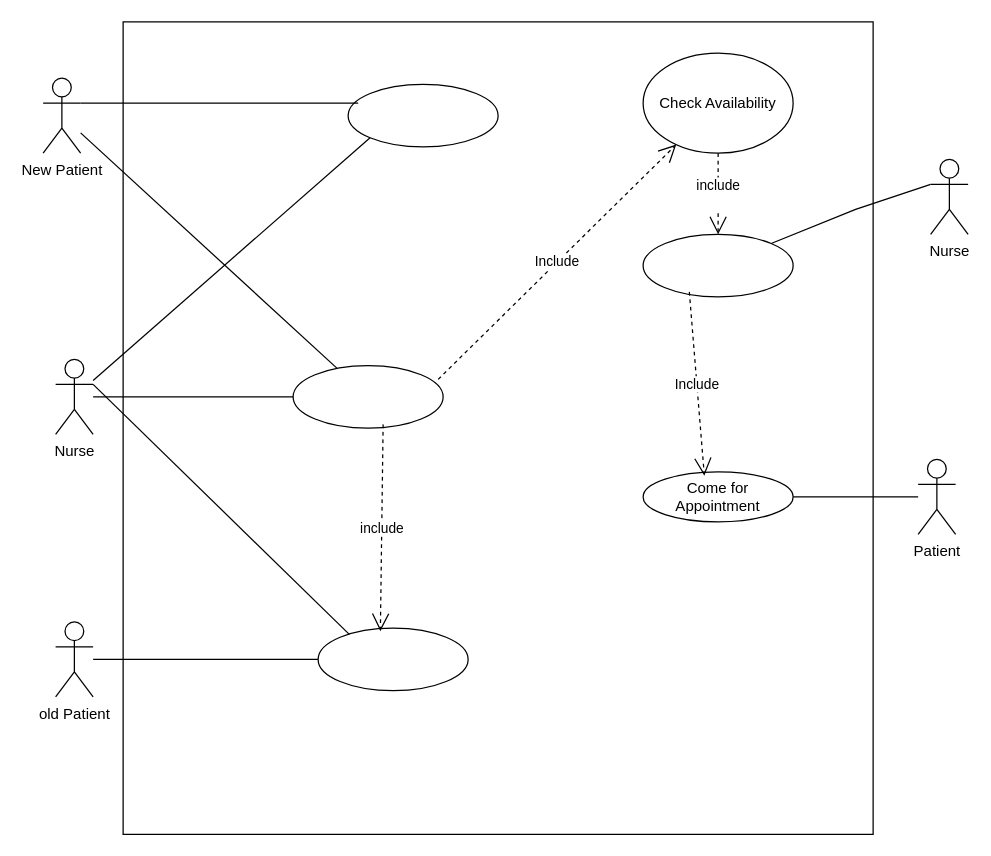
The diagram is 991 pixels wide and 856 high, and some of its shapes have lost their labels. Here are the shapes that lost their labels. From the top down, the box of each, then its label:
(347, 83, 498, 147): Complete Patient Information
(642, 233, 793, 297): Mail Reminder
(292, 364, 443, 428): Schedule New Appointment
(317, 627, 468, 691): Change Existing Appointment
